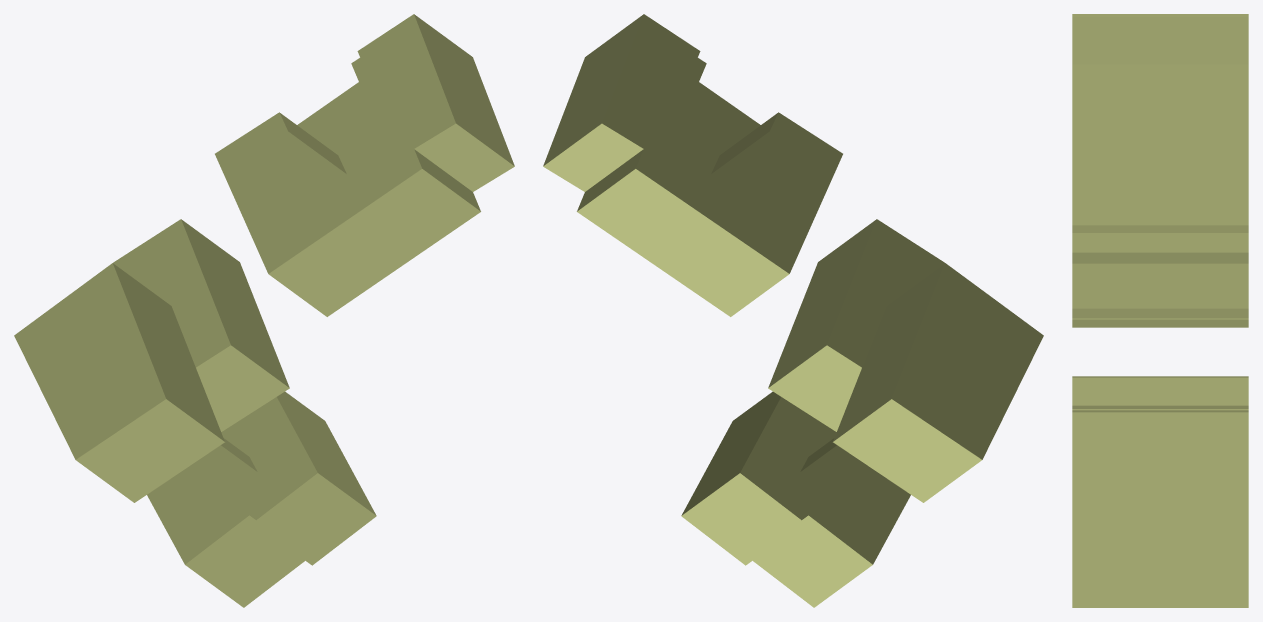
3 renders of one model, left to right at view 1: azimuth 30°, elevation 25°; view 2: azimuth 150°, elevation 25°; view 3: azimuth 270°, elevation 25°, orthographic. The views are drawn at different scales.
Visible parts, largest first — view 1: 0_1_0_2_0_0_3_0_2_2; view 2: 0_1_0_2_0_0_3_0_2_2; view 3: 0_1_0_2_0_0_3_0_2_2.
Part boxes in pixels (x1,y1,x2,y2): 0_1_0_2_0_0_3_0_2_2: (14,14,514,607); 0_1_0_2_0_0_3_0_2_2: (543,14,1043,607); 0_1_0_2_0_0_3_0_2_2: (1072,14,1248,607).
Size of the model in its own units: 25.99 by 27.81 by 6.
